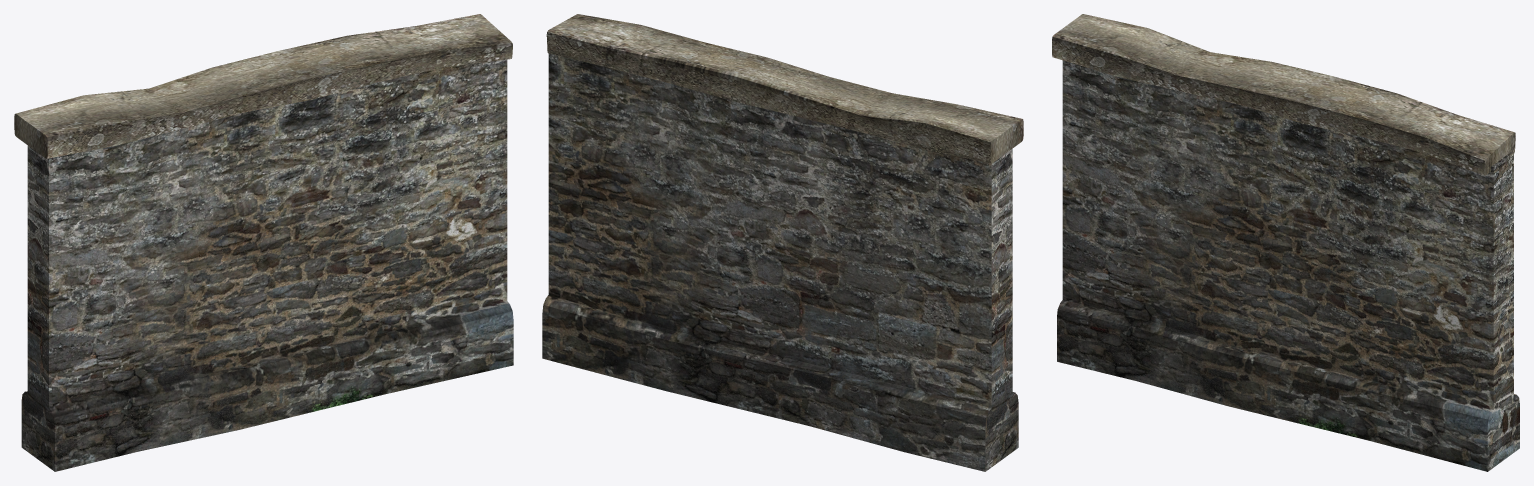
The model's file is wall_2.fbx.
3 views of the same model, side by side, from view 1: azimuth 30°, elevation 25°; view 2: azimuth 150°, elevation 25°; view 3: azimuth 330°, elevation 25° (orthographic). The views are drawn at different scales.
Parts seen in each view (by area): view 1: wall_2; view 2: wall_2; view 3: wall_2.
Boxes of the visible parts, box(x1,y1,x2,y2) form: wall_2: box(14, 14, 513, 471); wall_2: box(542, 14, 1023, 471); wall_2: box(1052, 14, 1519, 471).
Size of the model in its own units: 445 by 313 by 69.24.
